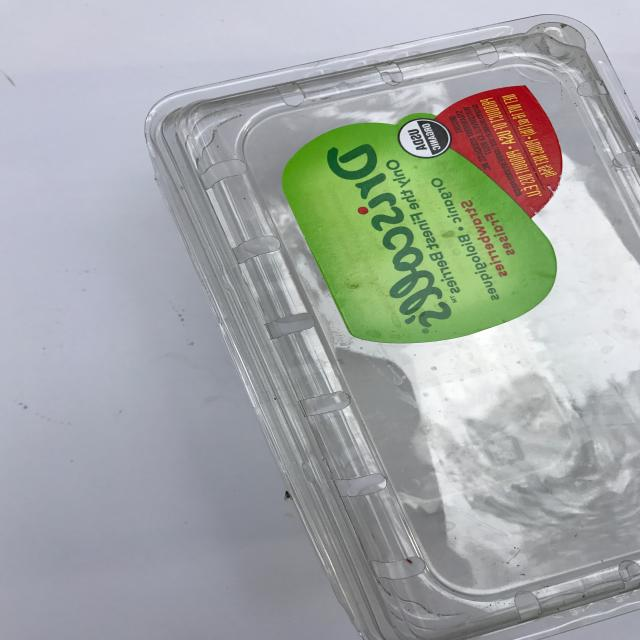plastic: (144, 14, 640, 640)
